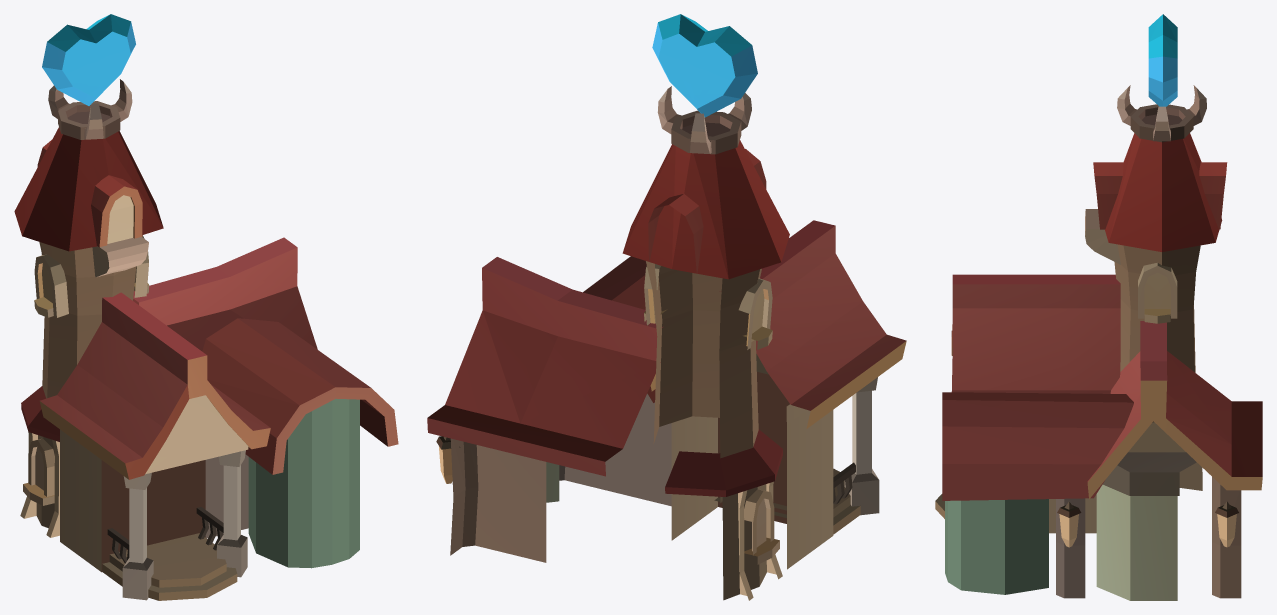
Rendered from building09.fbx.
3 views of the same model, side by side, from view 1: azimuth 30°, elevation 25°; view 2: azimuth 150°, elevation 25°; view 3: azimuth 270°, elevation 25° (orthographic). The views are drawn at different scales.
Parts seen in each view (by area): view 1: building09; view 2: building09; view 3: building09.
Boxes of the visible parts, <box> form: building09: <box>14,14,398,600</box>; building09: <box>427,14,906,600</box>; building09: <box>935,14,1262,600</box>.
Size of the model in its own units: 1.64 by 2.79 by 1.7.
1 material, 1 textured.
